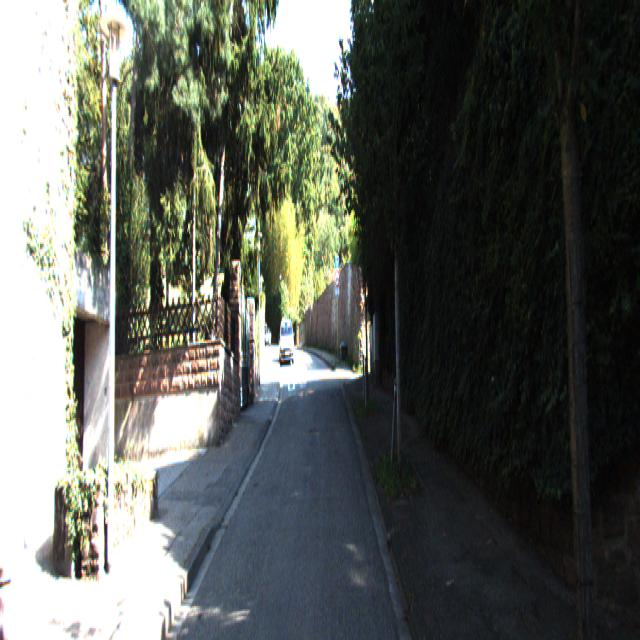Car: (278, 319, 294, 369)
